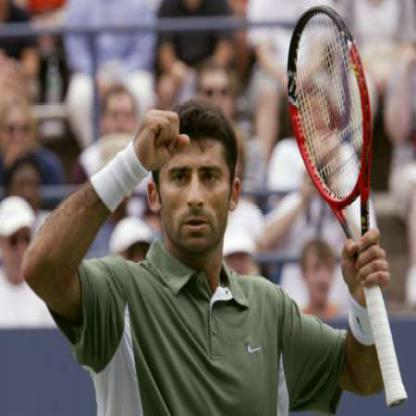face: (158, 109, 234, 256), (1, 202, 36, 276), (199, 60, 236, 128), (103, 87, 138, 148), (10, 158, 42, 218), (307, 242, 338, 303), (4, 103, 36, 161), (224, 230, 252, 288)
